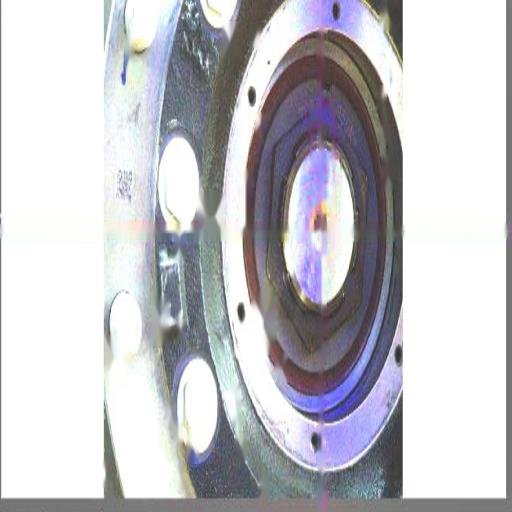center: (309, 207, 330, 247)
notch: (319, 76, 335, 103)
